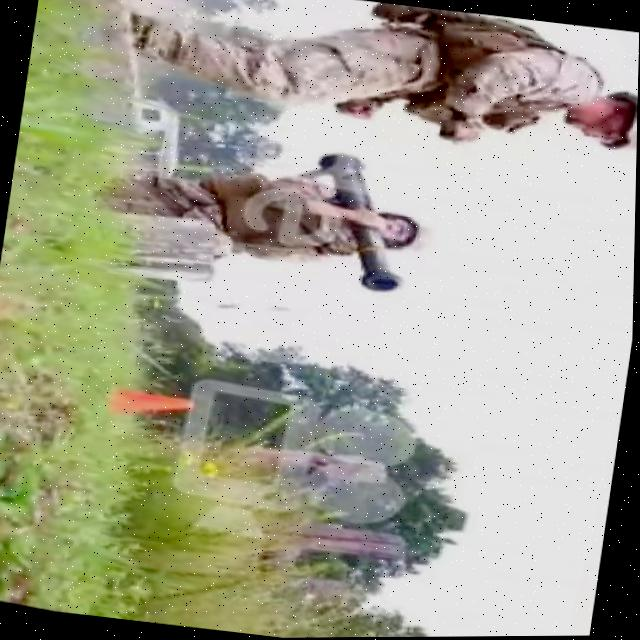rocket: (298, 155, 427, 298)
